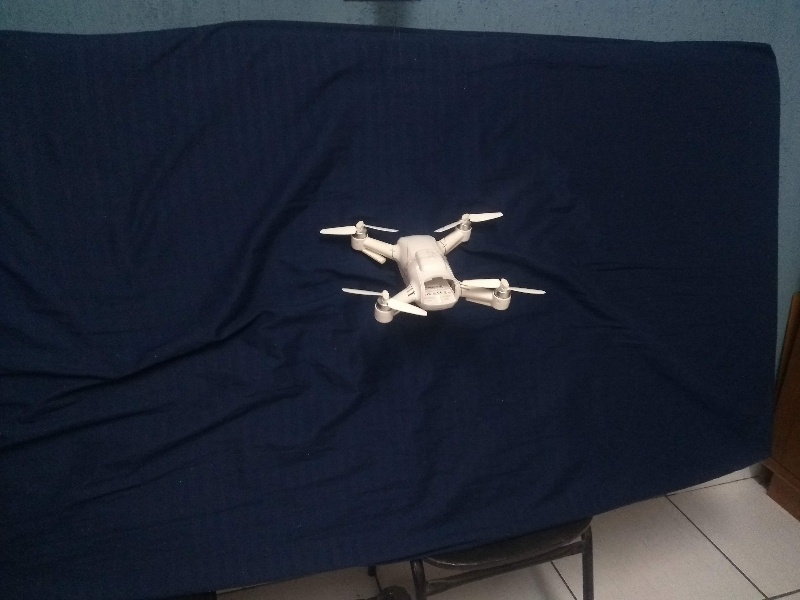drone: (314, 199, 546, 325)
